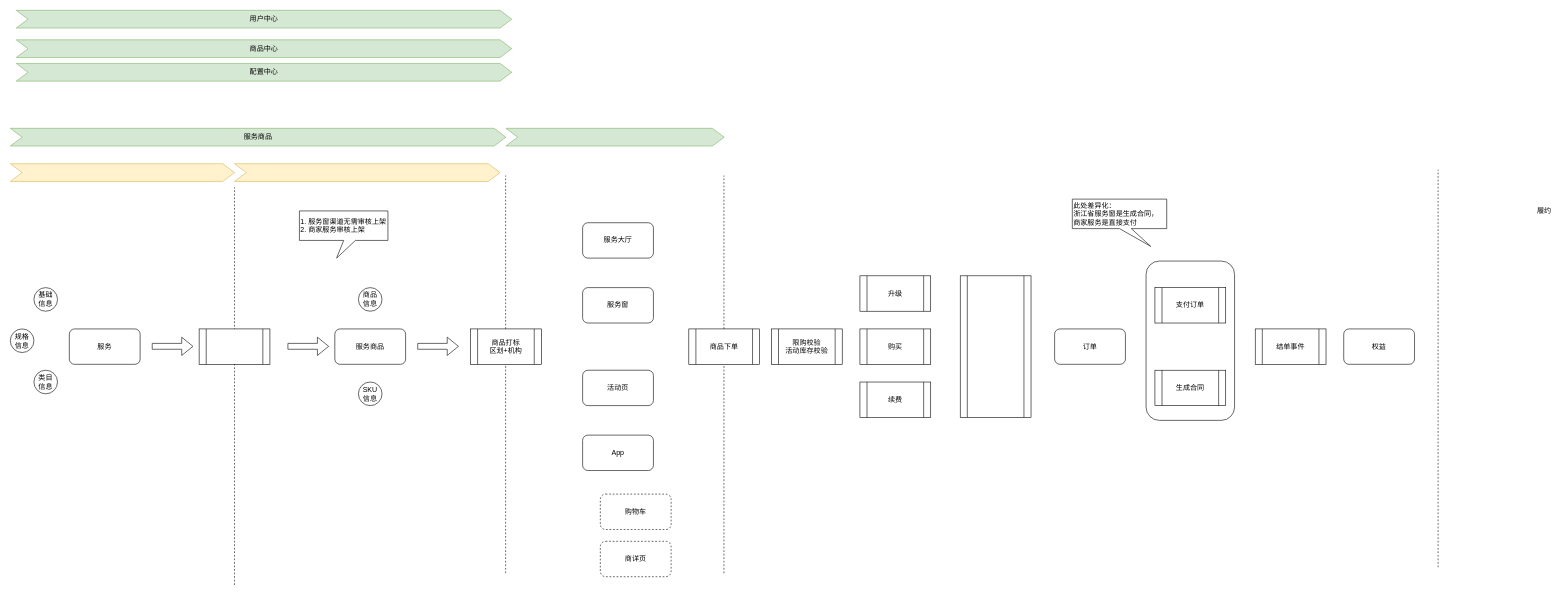
Some shapes in this 1566 by 596 pixel diagram are drawn without their labels. The shapes that lost their labels are listed below. From the top down, each one's centre as x and y in pixels, then its label:
(614,137): 交易前台
(122,172): 服务域
(367,172): 渠道商品
(234,346): 业务渠道 服务组合
(995,346): 价格计算
